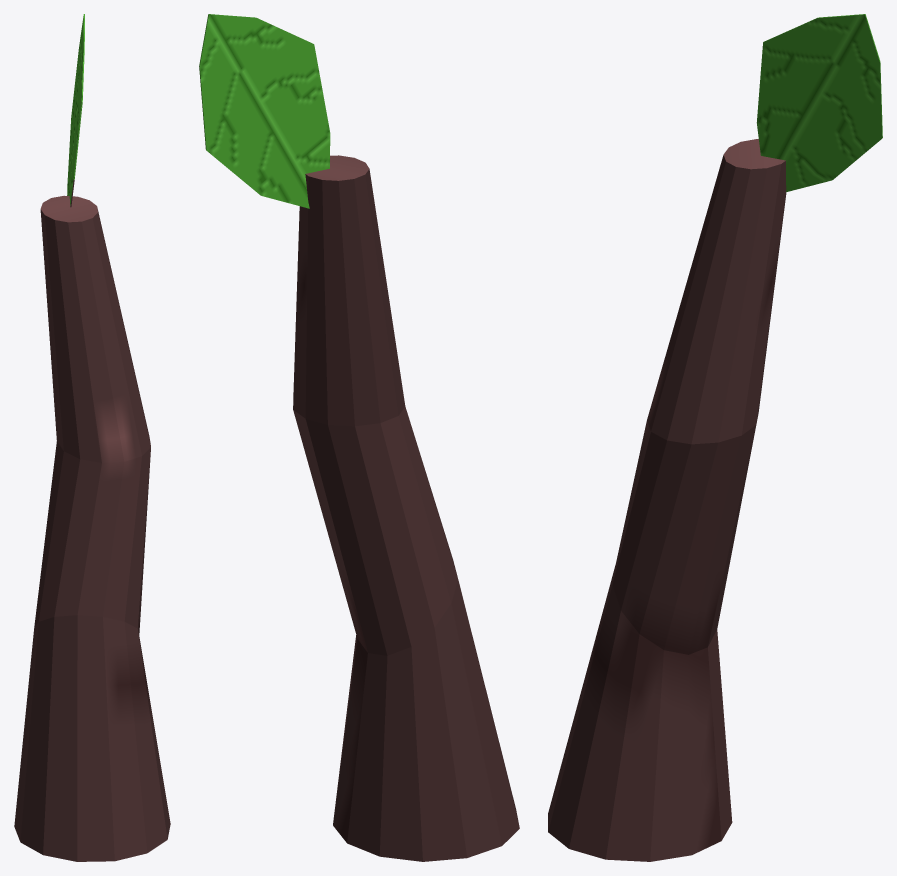
The model's file is Palmera1.fbx.
3 renders of one model, left to right at view 1: azimuth 30°, elevation 25°; view 2: azimuth 150°, elevation 25°; view 3: azimuth 270°, elevation 25°, orthographic. The views are drawn at different scales.
Visible parts, largest first — view 1: Palmera 1; view 2: Palmera 1; view 3: Palmera 1.
Boxes of the visible parts, x1,y1,x2,y2 form: Palmera 1: (14,14,170,861); Palmera 1: (199,14,519,861); Palmera 1: (548,14,882,861).
Bounding box in the file's own units: 62.04 × 96.95 × 274.
Materials: 1 (1 with a texture image).
